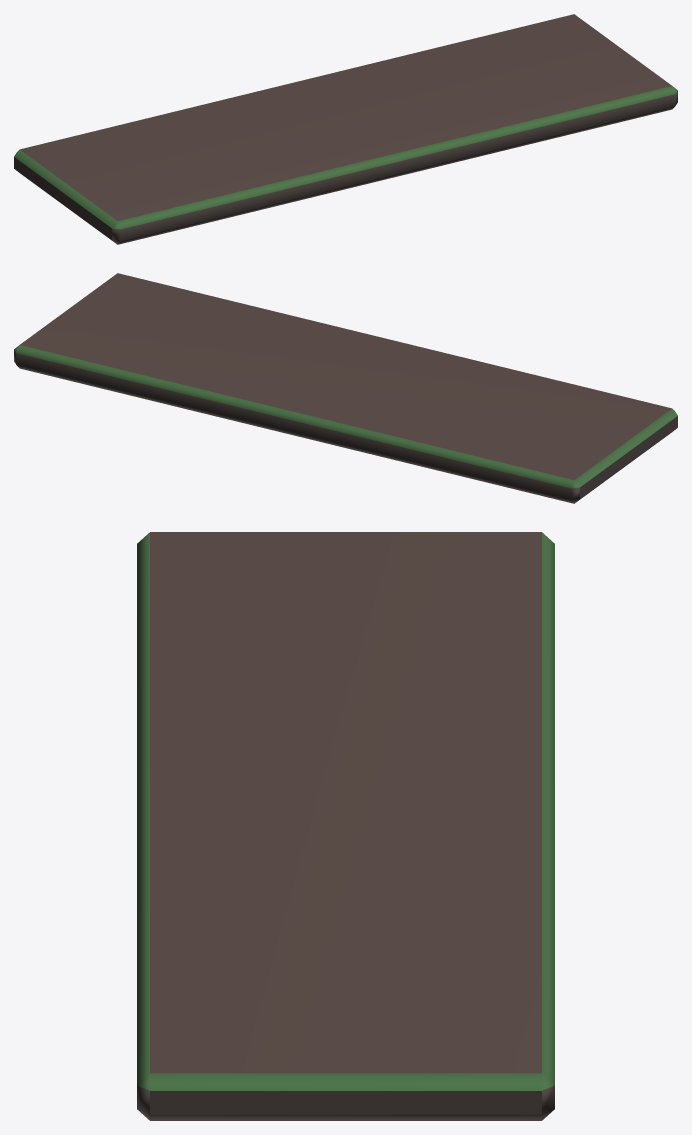
File: platform_base.fbx
3 views of the same model, one above another, from view 1: azimuth 30°, elevation 25°; view 2: azimuth 150°, elevation 25°; view 3: azimuth 270°, elevation 25° (orthographic). The views are drawn at different scales.
Visible parts, largest first — view 1: platform_base; view 2: platform_base; view 3: platform_base.
Boxes of the visible parts, x1,y1,x2,y2 form: platform_base: (14, 14, 677, 244); platform_base: (14, 273, 677, 503); platform_base: (137, 532, 554, 1120).
Size of the model in its own units: 2500 by 100 by 800.
